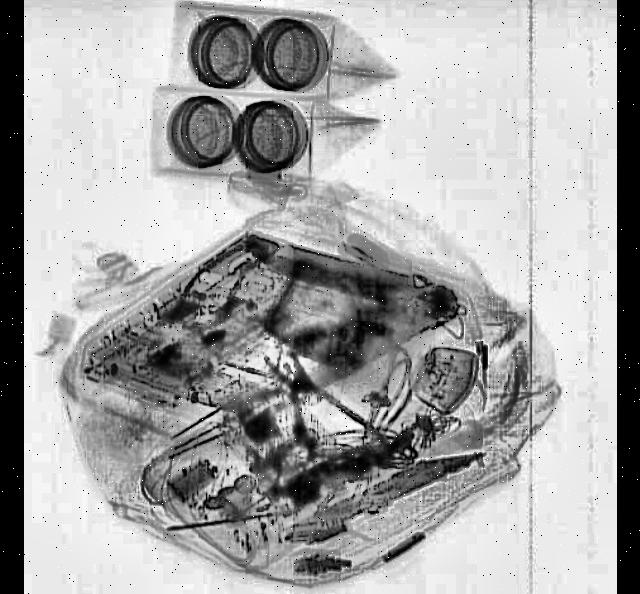Pliers: (250, 316, 392, 495)
